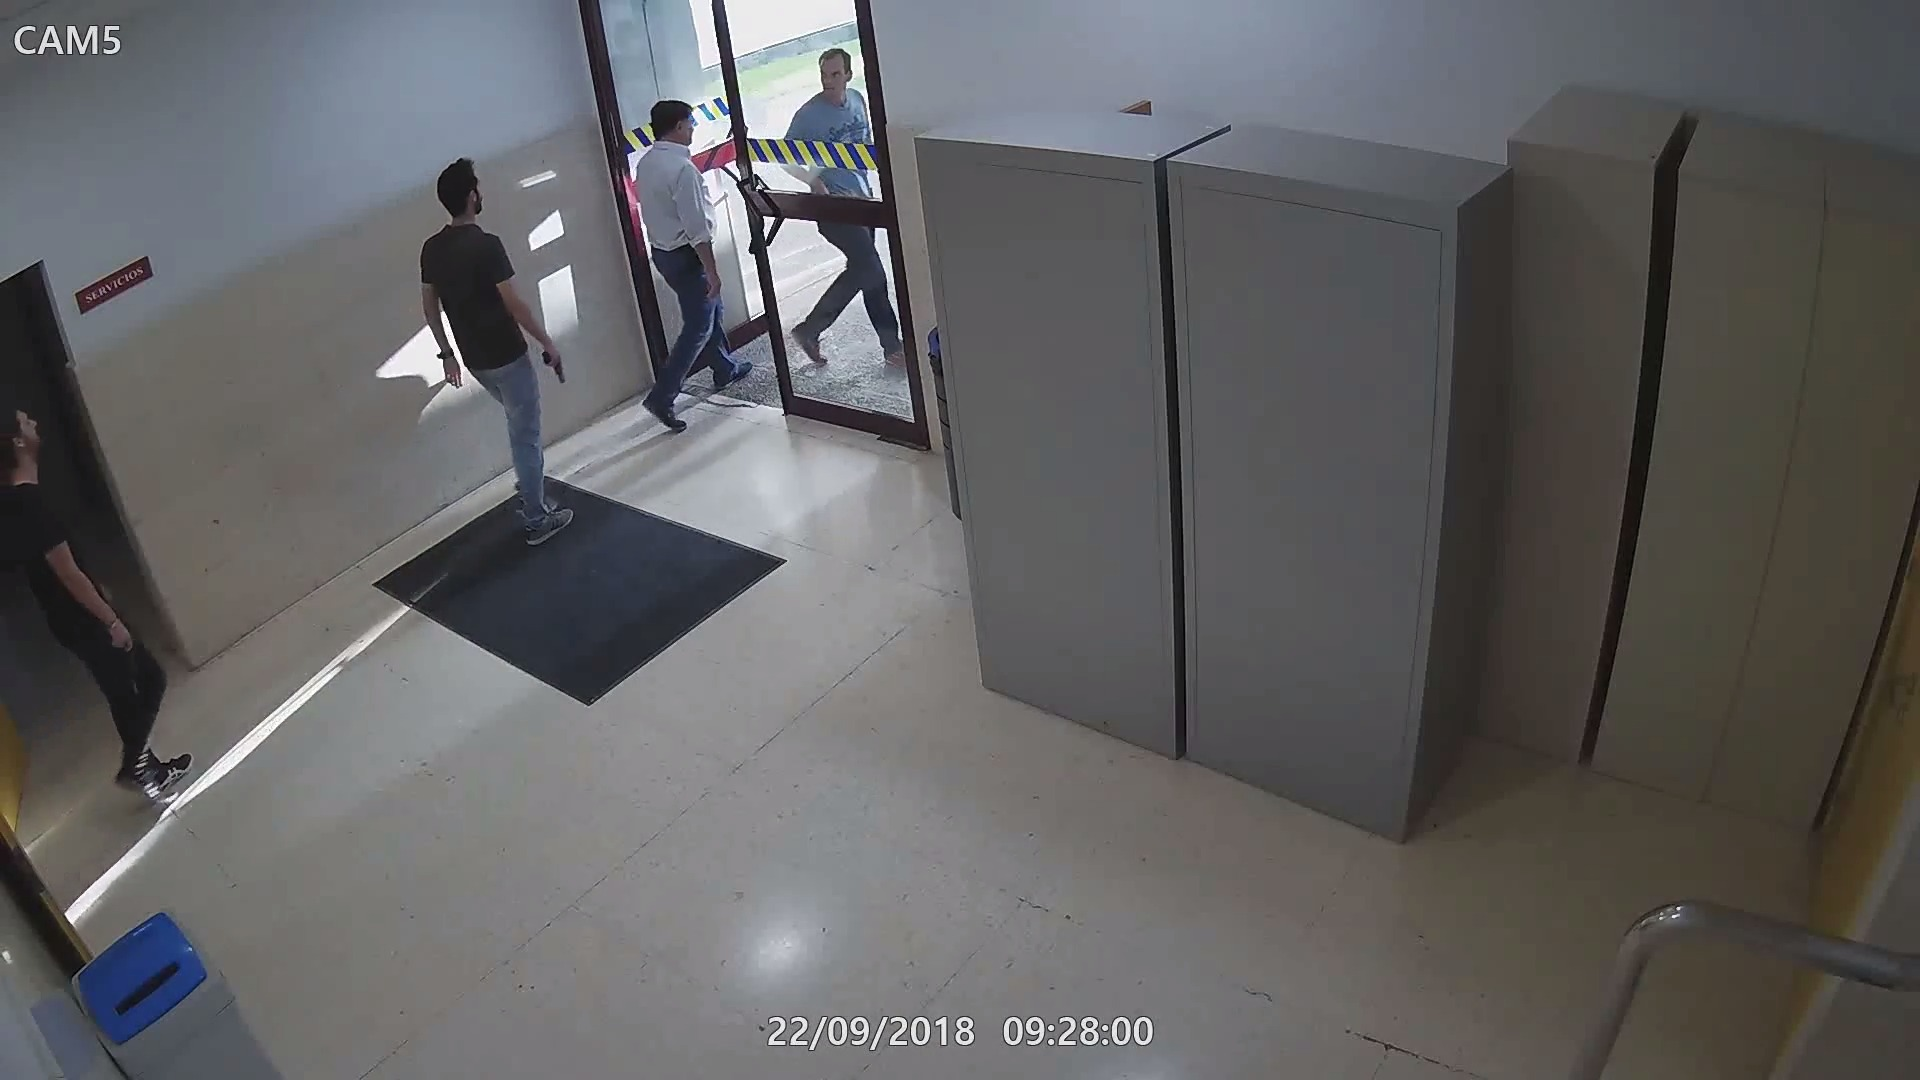Handgun: (103, 622, 149, 675), (535, 342, 568, 384)
